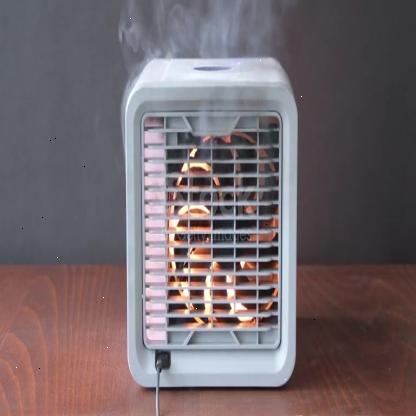smoke: (121, 0, 292, 142)
